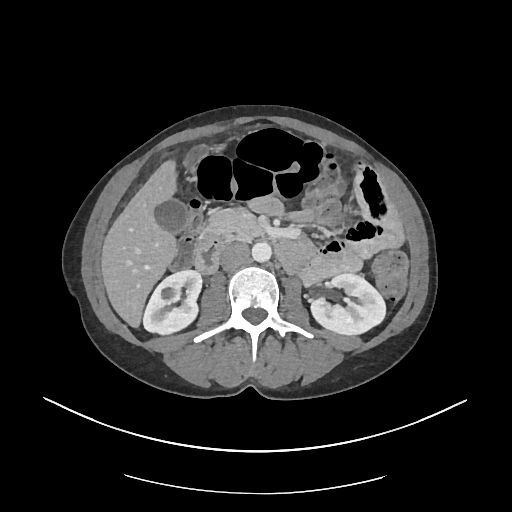Lesion: (154, 283, 177, 307)
